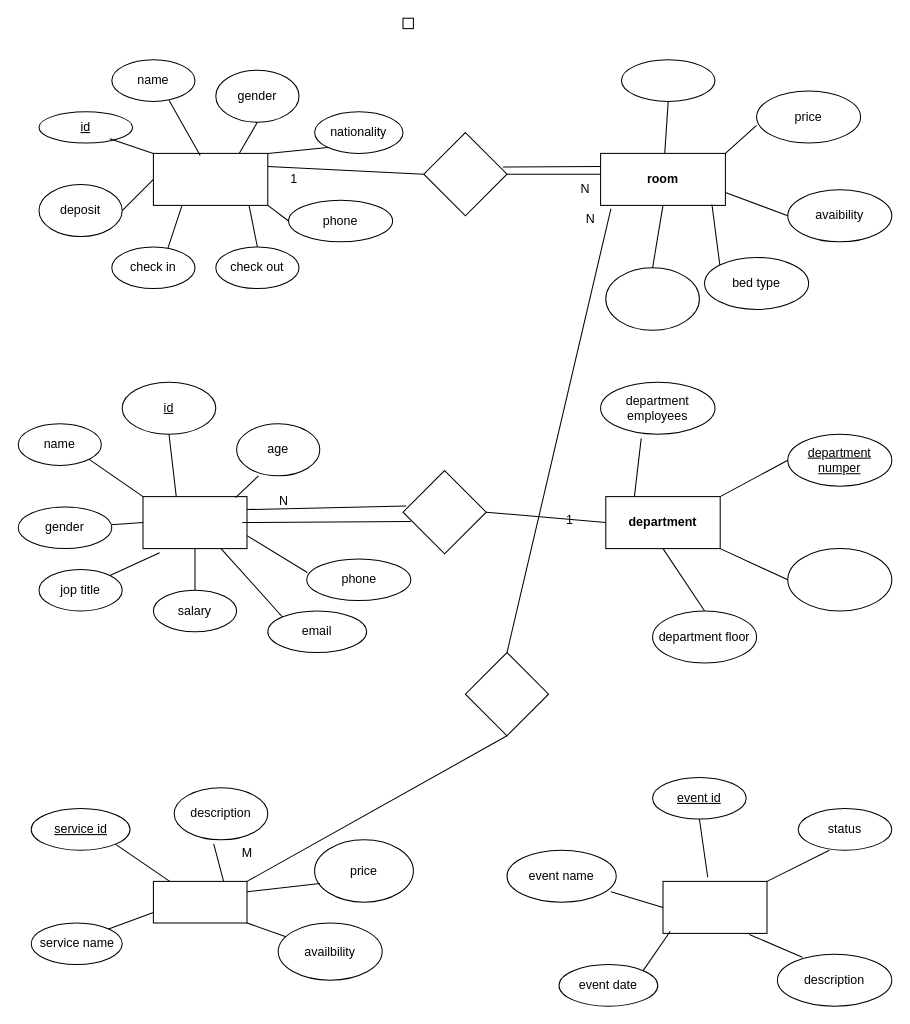
The diagram is 910 pixels wide and 1024 high, and some of its shapes have lost their labels. Each missing label, with the centre of its shape:
BUY: point 506,694
cleaning status: point 652,298
department name: point 839,579
employee: point 194,522
event: point 714,906
guest: point 210,178
reserve: point 465,174
room id: point 667,80
service: point 199,901
works in: point 444,512
